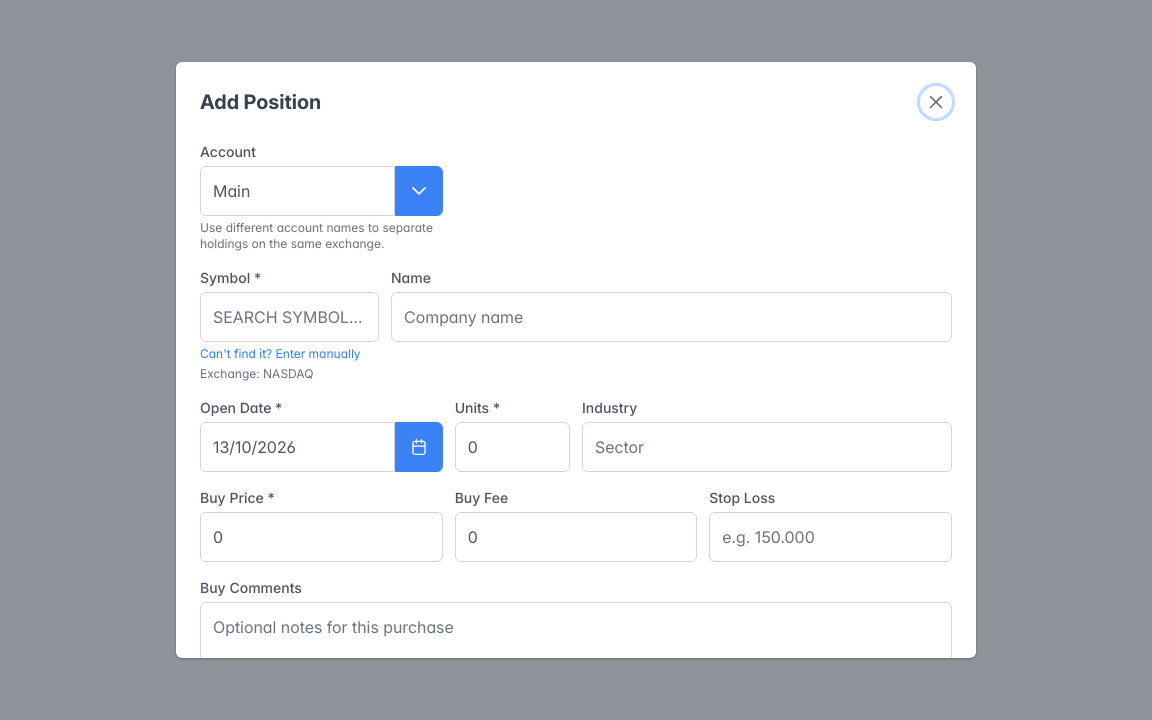
Test: AddHoldingsDialog validation › requires units to be greater than zero even when a symbol/exchange is resolved
This screenshot has width=1152, height=720.
Click the button "Can't find it? Enter manually" at (280, 354), box left=200, top=346, right=361, bottom=362
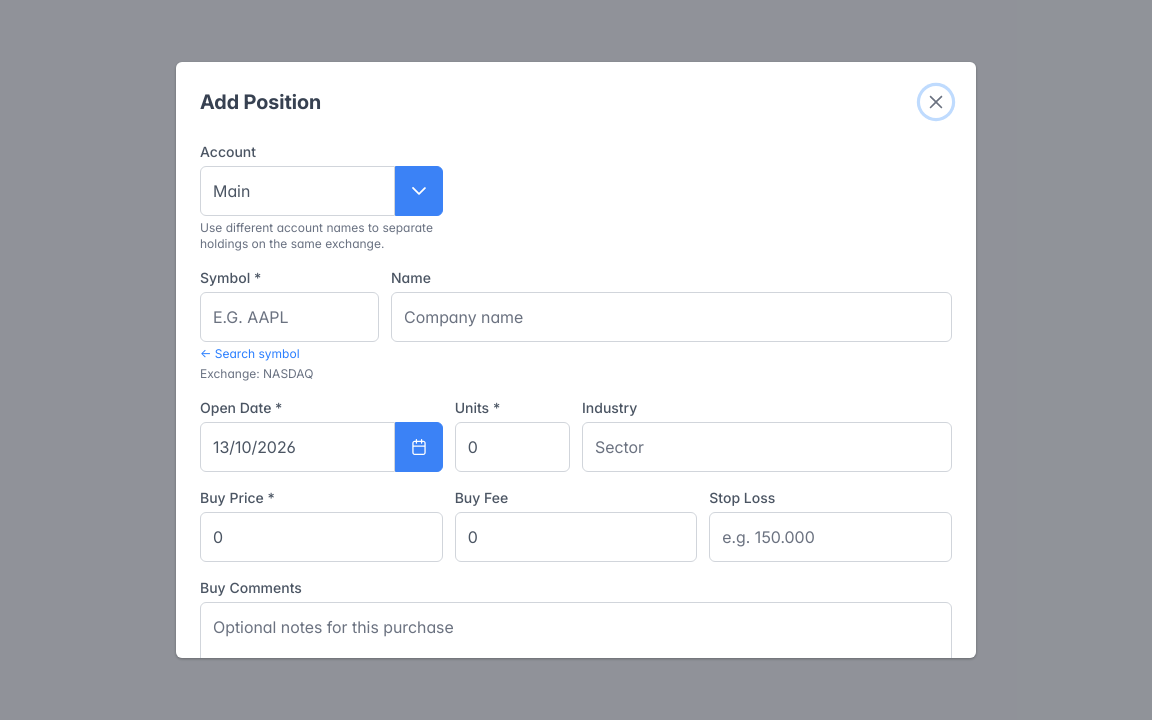
Type "AAPL" into the field with placeholder "e.g. AAPL" at (290, 317), box left=200, top=292, right=379, bottom=342
(page scrolled)
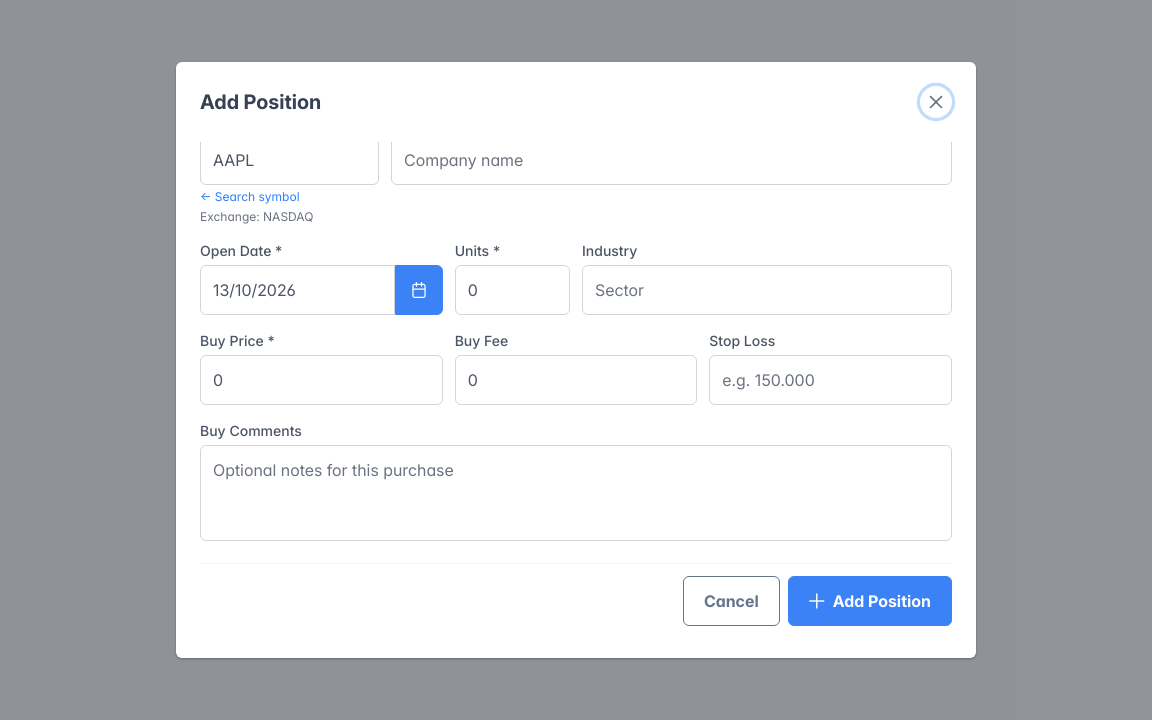
Click the button "Add Position" at (870, 601), box left=788, top=576, right=952, bottom=626
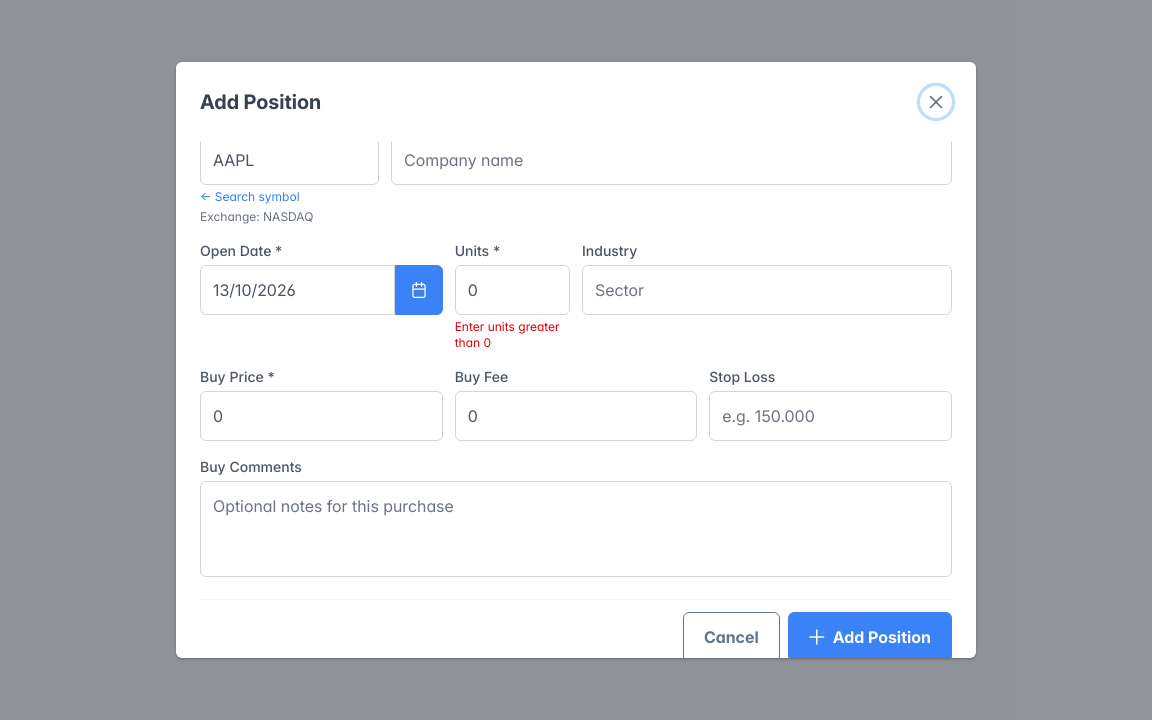
Check: the text "Enter units greater than 0" is shown, box left=455, top=319, right=570, bottom=351
